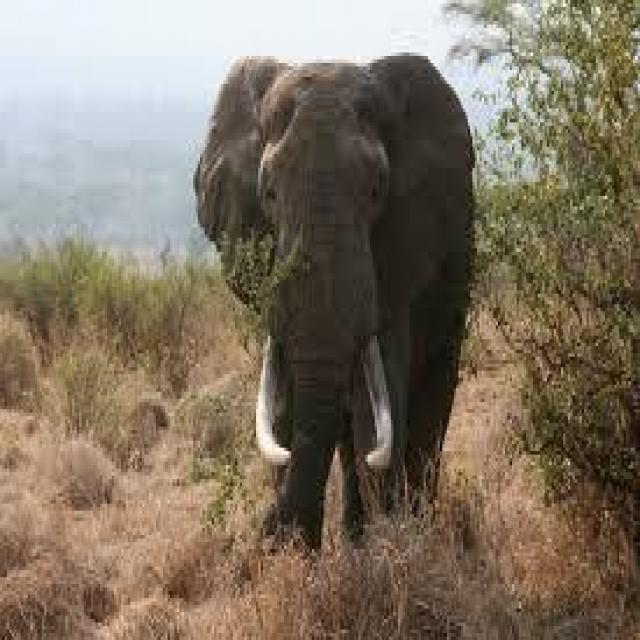Elephant: (191, 53, 470, 535)
